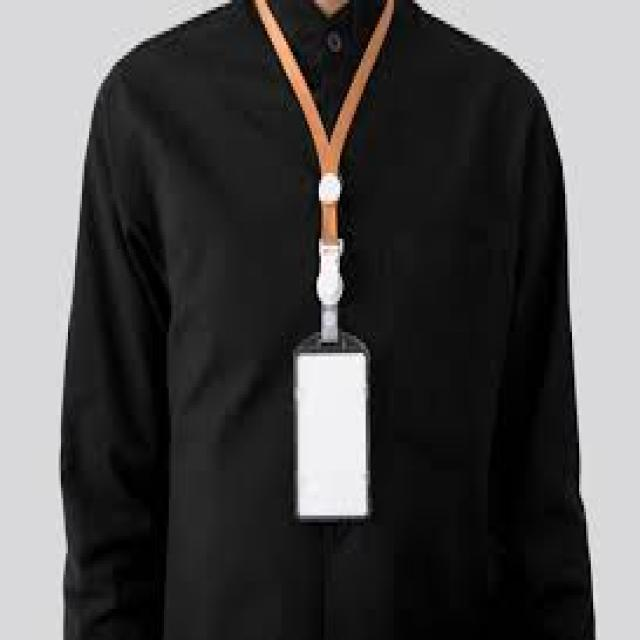id_card: (254, 9, 400, 528)
